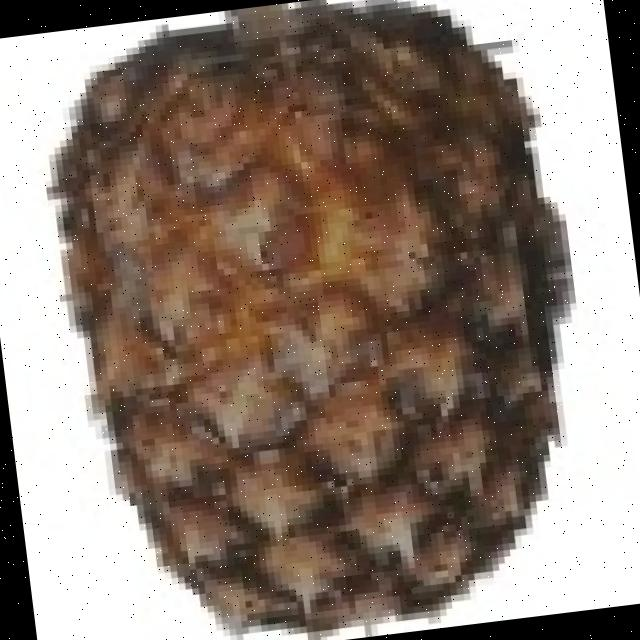pineapple: (46, 20, 549, 640)
